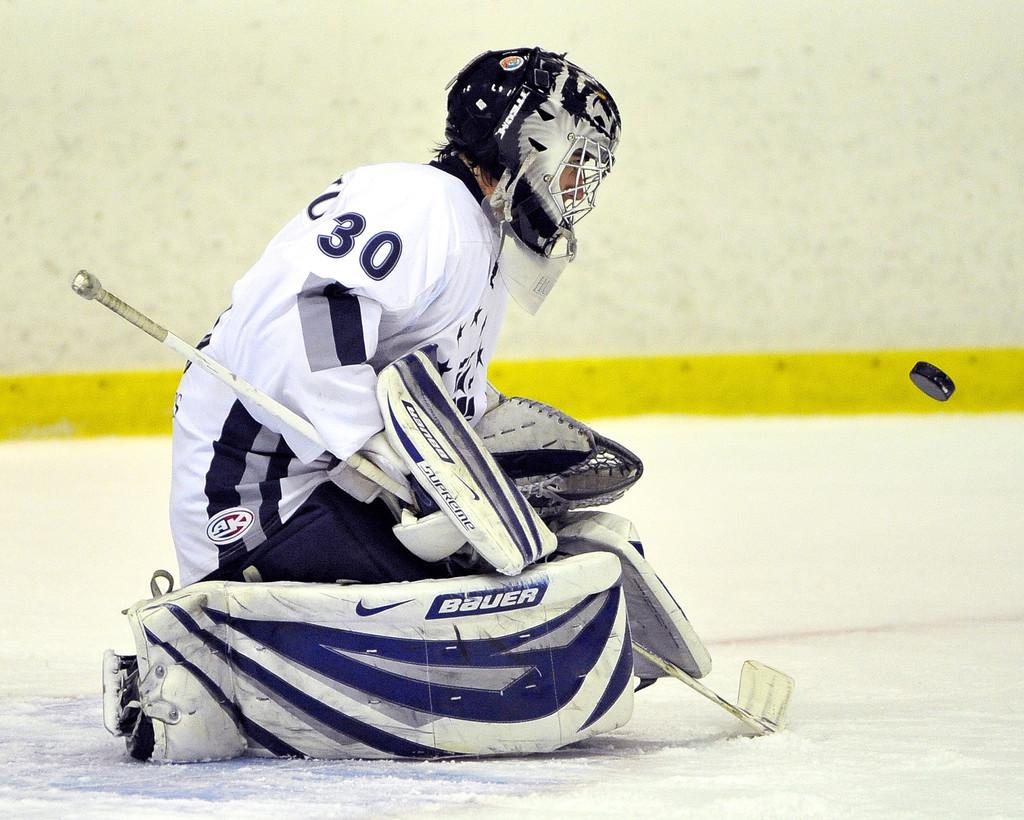helmet: (445, 47, 622, 261)
